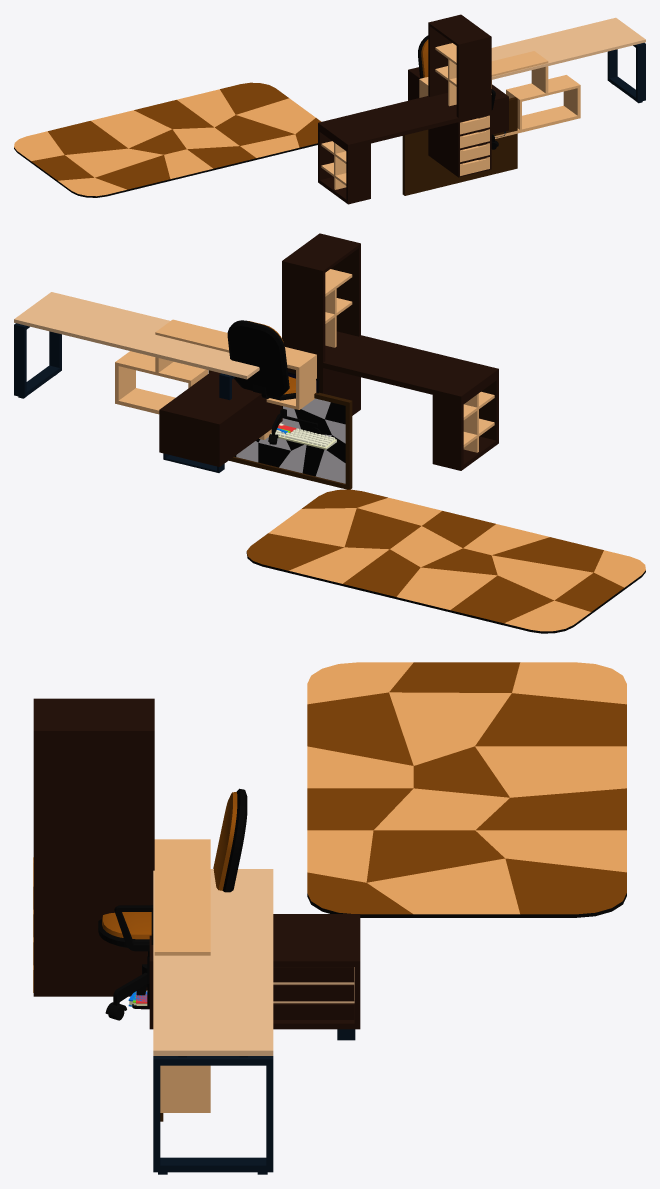
Rendered from assets 1.fbx.
The picture shows the model from 3 angles, top to bottom: view 1: azimuth 30°, elevation 25°; view 2: azimuth 150°, elevation 25°; view 3: azimuth 270°, elevation 25°; orthographic projection. The views are drawn at different scales.
Visible parts, largest first — view 1: Carpet, Table2, Table1, Shelf, Painting, Chair; view 2: Carpet, Table2, Table1, Painting, Shelf, Chair, KeyBoard; view 3: Carpet, Table2, Table1, Shelf, Chair.
Boxes of the visible parts, bbox=[...] form: Carpet: bbox=[14, 82, 321, 197]; Table2: bbox=[318, 14, 491, 204]; Table1: bbox=[408, 17, 645, 137]; Shelf: bbox=[419, 51, 580, 138]; Painting: bbox=[402, 97, 517, 195]; Chair: bbox=[418, 35, 498, 149]; Carpet: bbox=[246, 489, 645, 633]; Table2: bbox=[282, 233, 498, 470]; Table1: bbox=[14, 292, 282, 472]; Painting: bbox=[208, 370, 352, 489]; Shelf: bbox=[115, 319, 316, 439]; Chair: bbox=[227, 320, 320, 444]; KeyBoard: bbox=[271, 428, 336, 449]; Carpet: bbox=[307, 662, 626, 917]; Table2: bbox=[33, 698, 154, 996]; Table1: bbox=[149, 869, 360, 1174]; Shelf: bbox=[154, 839, 210, 1112]; Chair: bbox=[98, 788, 247, 1020].
Bounding box in the file's own units: 773 × 237 × 380.
